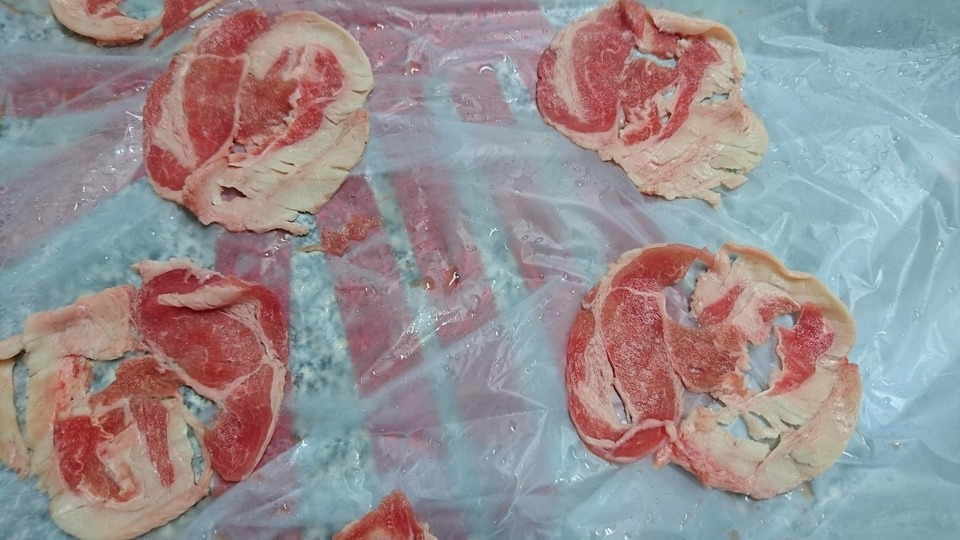restructured meat: (553, 226, 865, 504), (6, 251, 286, 540), (138, 2, 375, 246), (530, 1, 764, 204)
